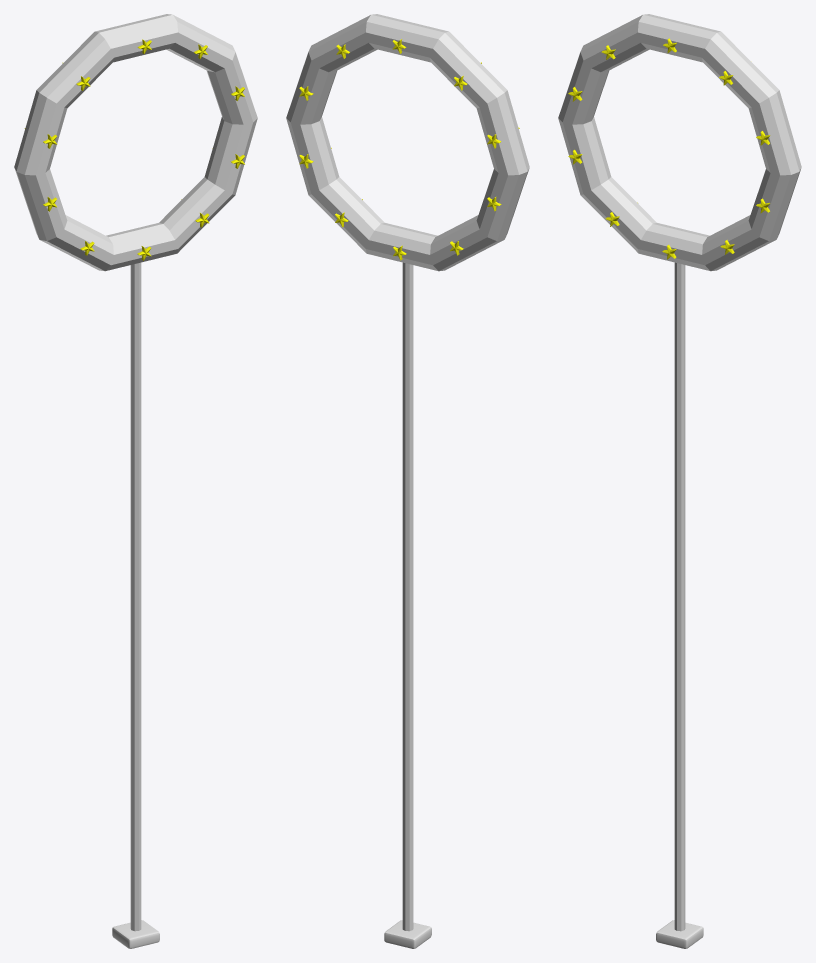
File: LargeRingPole.fbx
The picture shows the model from 3 angles, left to right: view 1: azimuth 30°, elevation 25°; view 2: azimuth 150°, elevation 25°; view 3: azimuth 330°, elevation 25°; orthographic projection.
Visible parts, largest first — view 1: Ring, RingPole, RingPoleBase; view 2: Ring, RingPole, RingPoleBase; view 3: Ring, RingPole, RingPoleBase.
Boxes of the visible parts, x1=… form: Ring: x1=14, y1=14, x2=257, y2=271; RingPole: x1=130, y1=262, x2=141, y2=931; RingPoleBase: x1=112, y1=920, x2=159, y2=948; Ring: x1=286, y1=14, x2=529, y2=271; RingPole: x1=402, y1=262, x2=413, y2=931; RingPoleBase: x1=384, y1=920, x2=431, y2=948; Ring: x1=558, y1=14, x2=801, y2=271; RingPole: x1=674, y1=262, x2=685, y2=931; RingPoleBase: x1=656, y1=920, x2=703, y2=948.
Size of the model in its own units: 5.59 by 20.48 by 0.8302.
